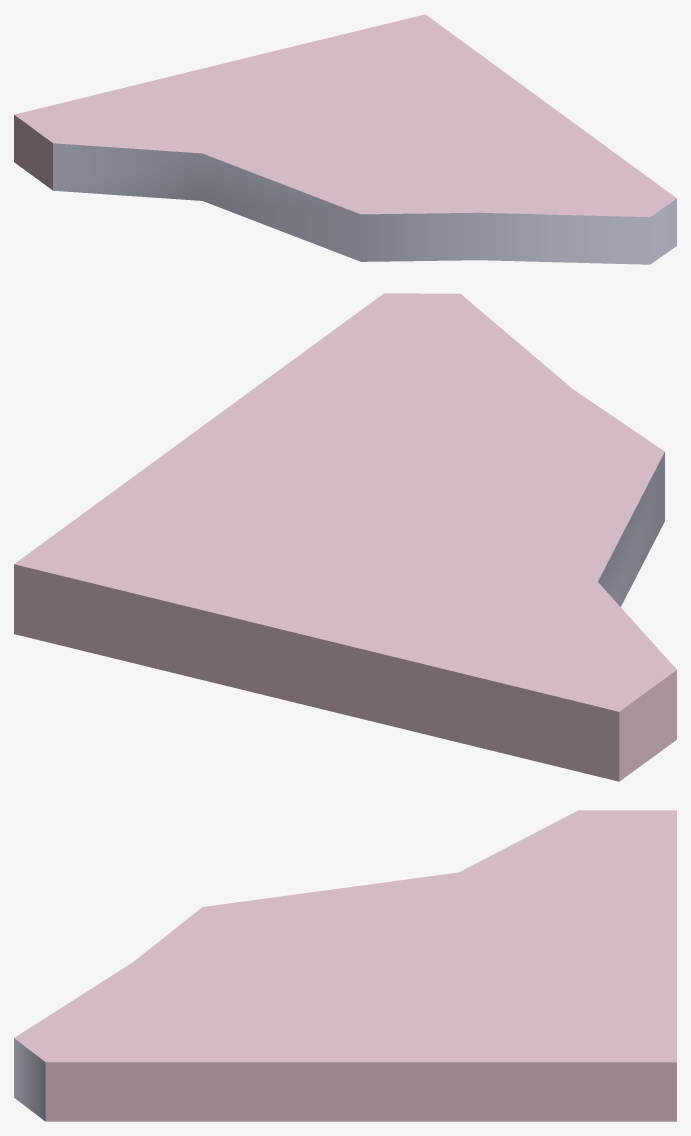
The picture shows the model from 3 angles, top to bottom: view 1: azimuth 30°, elevation 25°; view 2: azimuth 150°, elevation 25°; view 3: azimuth 270°, elevation 25°; orthographic projection. The views are drawn at different scales.
Parts seen in each view (by area): view 1: Object27; view 2: Object27; view 3: Object27.
Boxes of the visible parts, x1,y1,x2,y2 form: Object27: (14, 14, 676, 264); Object27: (14, 293, 676, 781); Object27: (14, 810, 676, 1121).
Bounding box in the file's own units: 8604 × 949 × 9570.
